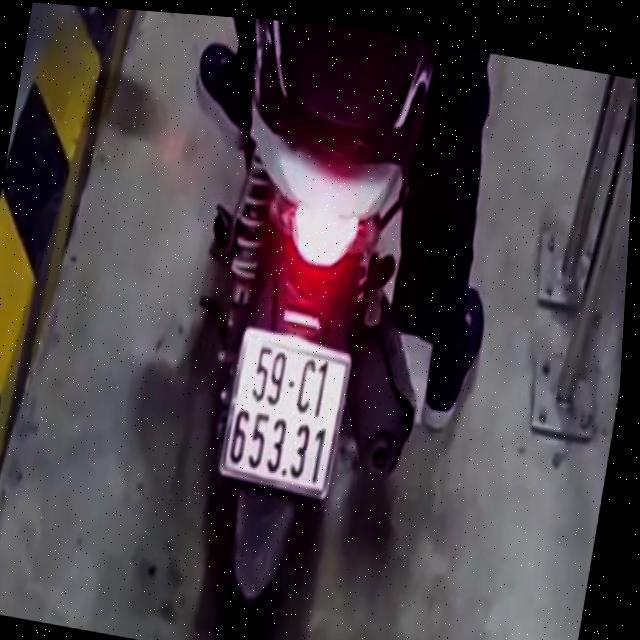motorcycle: (130, 18, 479, 640)
plate: (209, 316, 360, 509)
